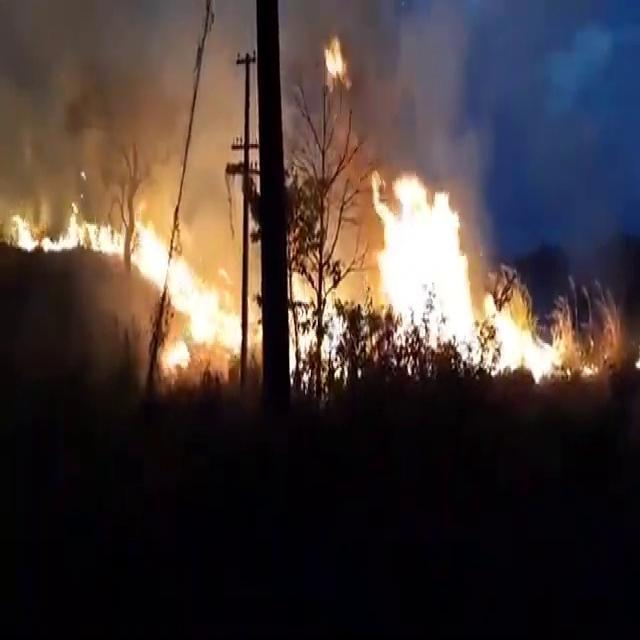Fire: (352, 146, 480, 374), (134, 231, 256, 406), (468, 288, 576, 388)
Smoke: (0, 0, 243, 221)
